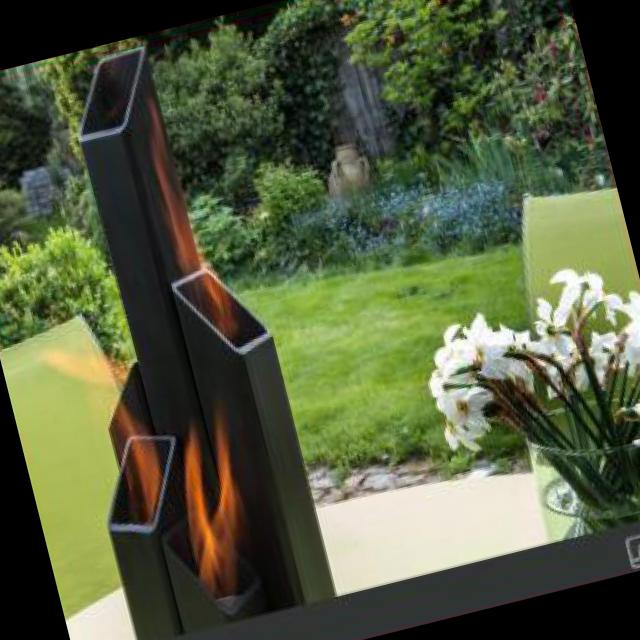fire: (27, 292, 176, 532), (133, 105, 244, 358), (157, 418, 270, 602)
